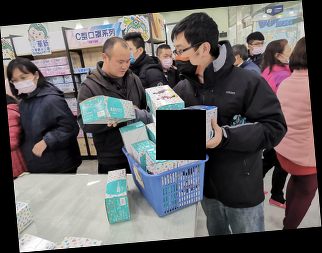with_mask: (174, 43, 202, 81), (11, 72, 38, 95), (161, 51, 174, 71), (251, 40, 267, 54)
without_mask: (108, 57, 132, 78)
